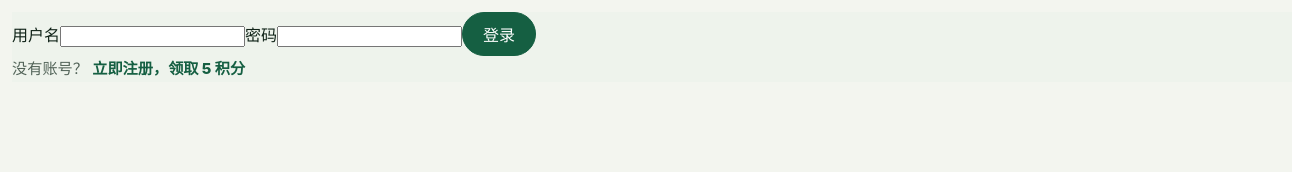
it: auth forms › shows login errors without redirecting
This screenshot has width=1292, height=172.
Type "player1" into the field labelled "用户名".
click(152, 36); type("player1")  # box x1=60 y1=26 x2=245 y2=47
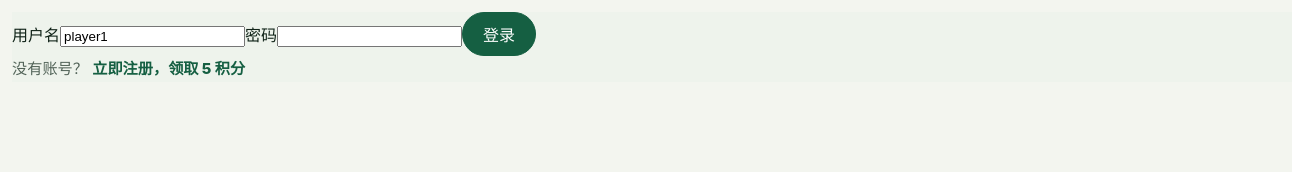
Type "wrong-password" into the password field labelled "密码".
click(370, 36); type("wrong-password")  # box x1=277 y1=26 x2=462 y2=47
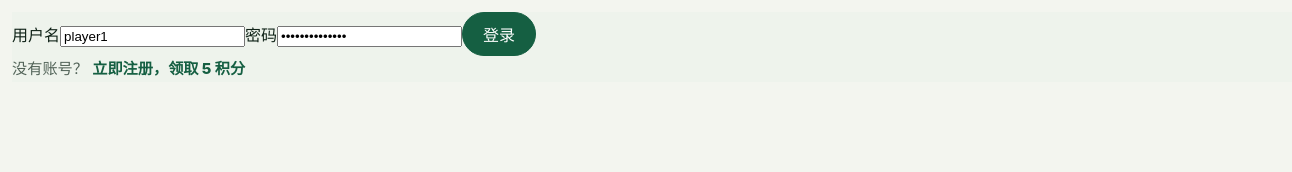
Click the button "登录".
click(499, 34)  # box x1=462 y1=12 x2=536 y2=56
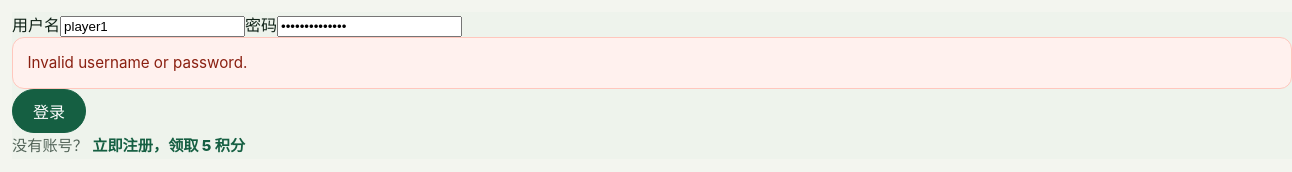
Now the message reads "Invalid username or password.", box x1=27 y1=53 x2=247 y2=72
